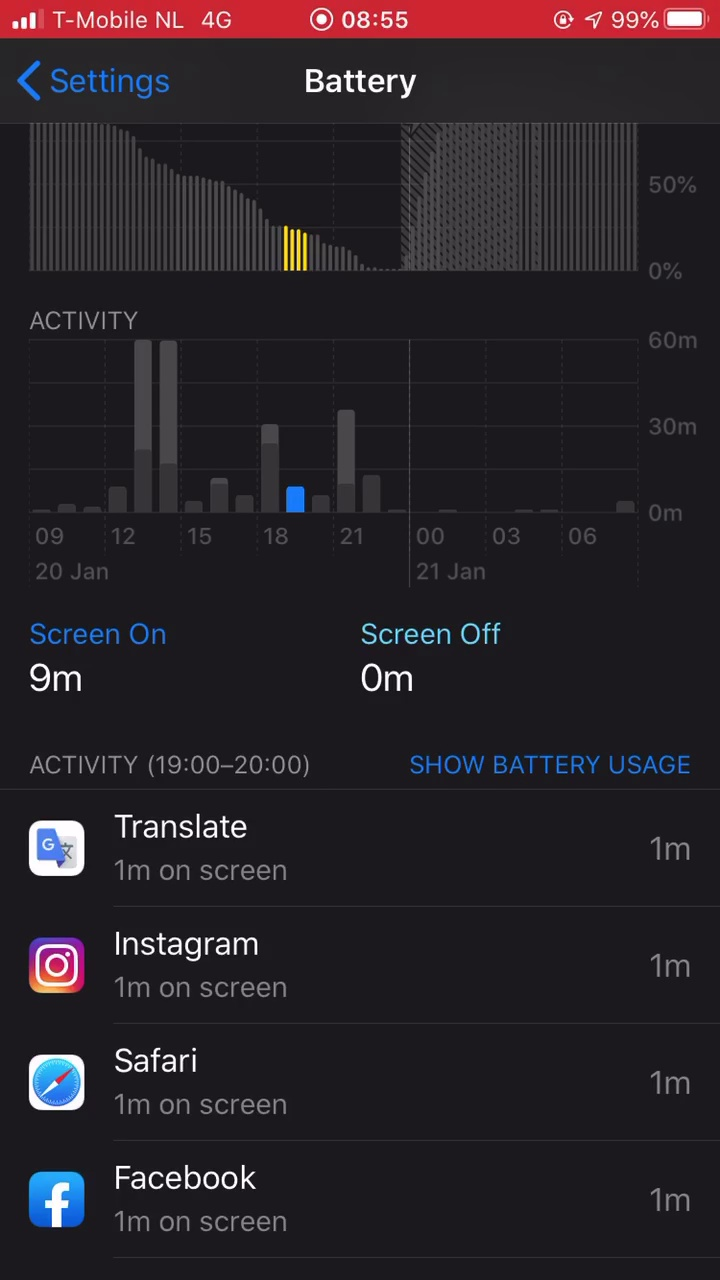activity: (7, 736, 322, 783)
app: (11, 803, 713, 889), (5, 921, 707, 1007), (9, 1043, 711, 1129), (3, 1160, 705, 1246)
